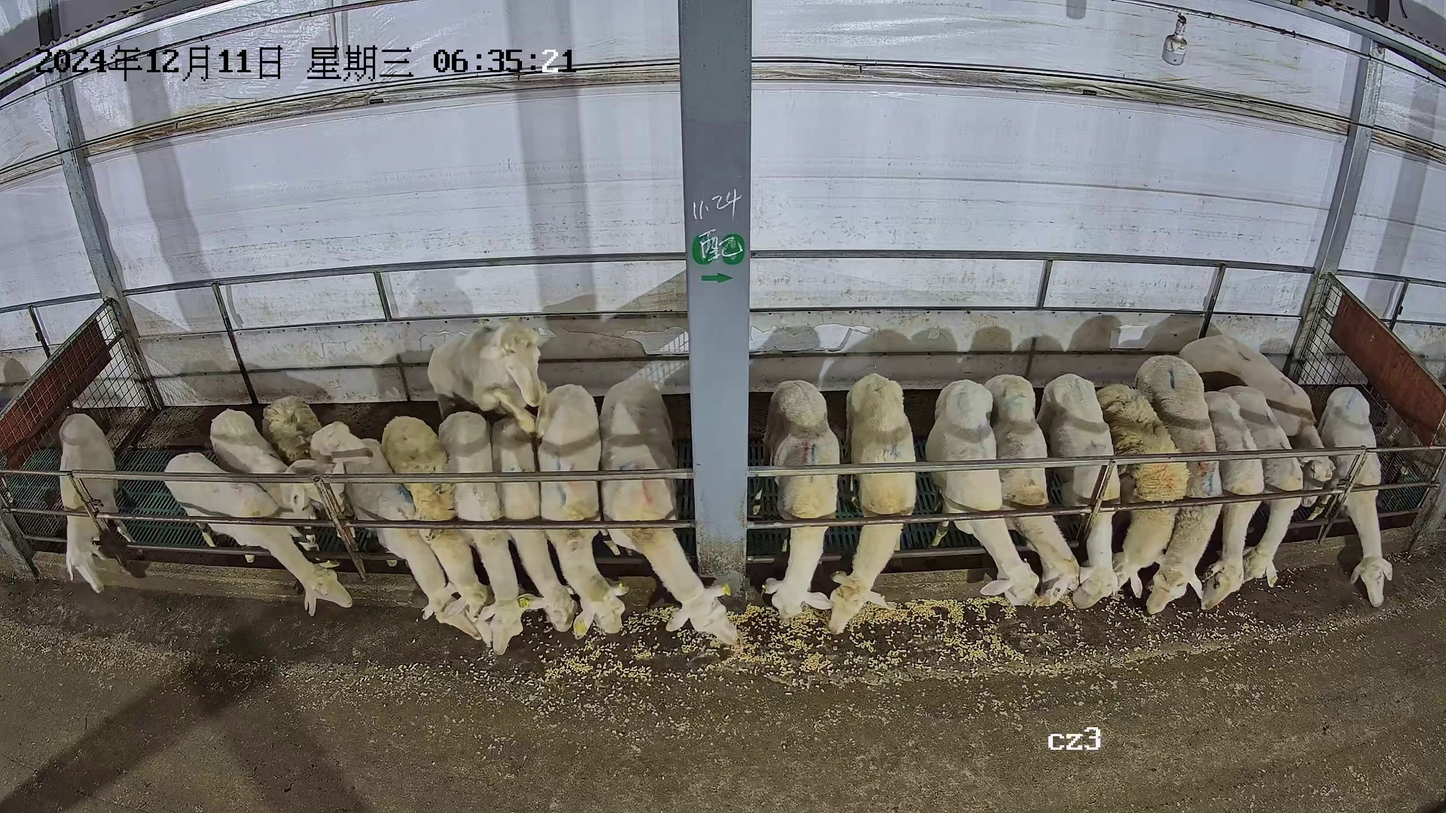Nmounting: (425, 321, 564, 638)
